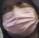with_mask: (1, 1, 39, 38)
